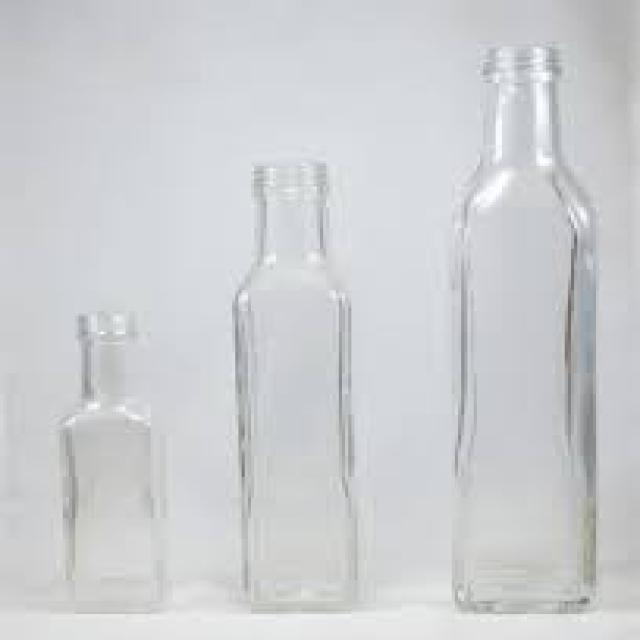glass: (445, 39, 593, 611), (232, 161, 358, 606), (60, 308, 170, 609)
